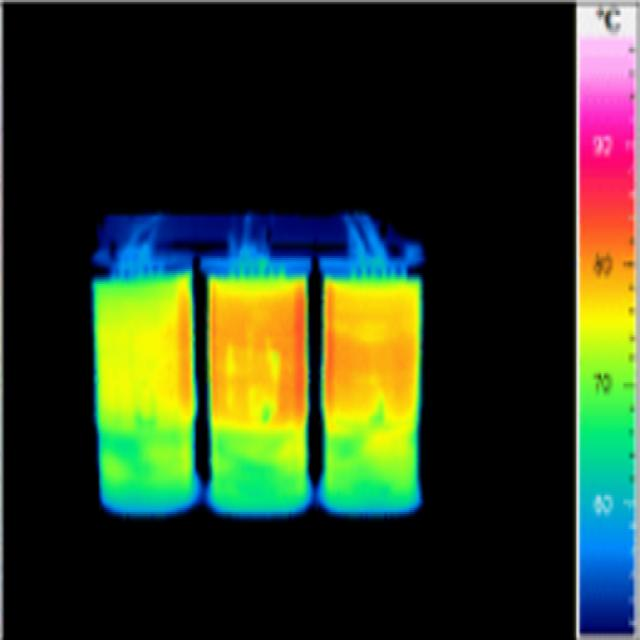Transformer: (92, 213, 423, 518)
